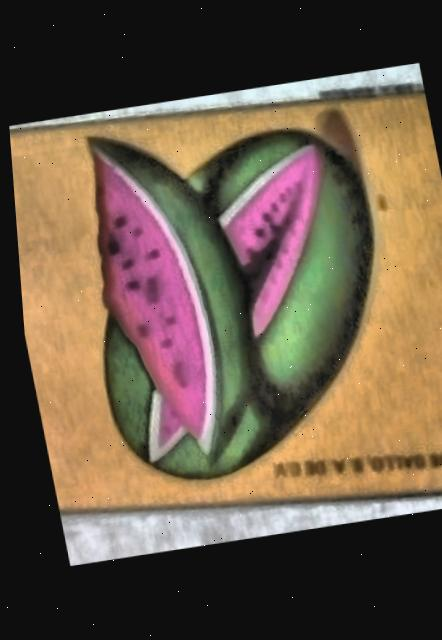La Sandia: (8, 87, 442, 509)
